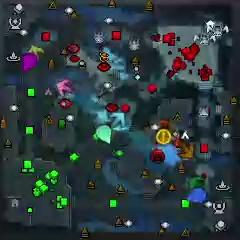Other: (156, 129, 171, 145)
p1: (188, 187, 207, 203)
p2: (95, 124, 113, 144)
p3: (23, 52, 37, 72)
x1: (57, 79, 73, 96)
x2: (29, 46, 44, 60)
x3: (110, 111, 125, 129)
x4: (189, 174, 204, 189)
x5: (180, 143, 195, 159)
